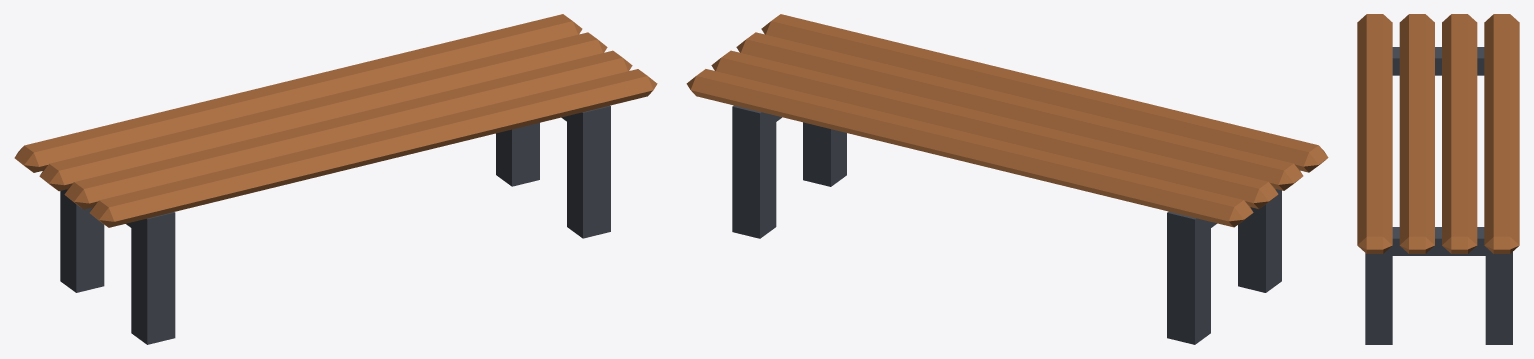
Rendered from bench.glb.
3 renders of one model, left to right at view 1: azimuth 30°, elevation 25°; view 2: azimuth 150°, elevation 25°; view 3: azimuth 270°, elevation 25°, orthographic. The views are drawn at different scales.
Parts seen in each view (by area): view 1: bench; view 2: bench; view 3: bench.
Boxes of the visible parts, x1,y1,x2,y2 form: bench: [14, 14, 657, 344]; bench: [686, 14, 1328, 344]; bench: [1357, 14, 1519, 344].
Bounding box in the file's own units: 2 × 0.5 × 0.595.
